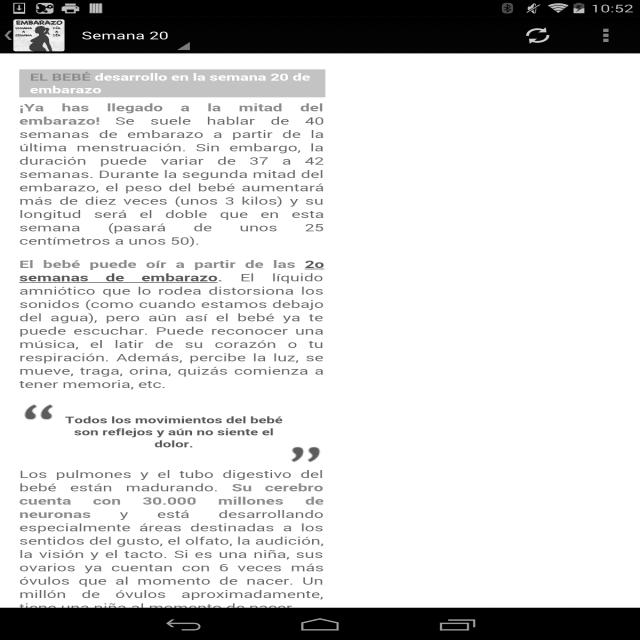ImageButton: (520, 24, 558, 47), (592, 23, 619, 44)
ImageView: (11, 17, 64, 52)
TextView: (16, 99, 334, 247), (13, 467, 338, 607), (15, 256, 338, 391), (62, 410, 286, 448), (23, 68, 326, 95), (80, 28, 170, 42)
